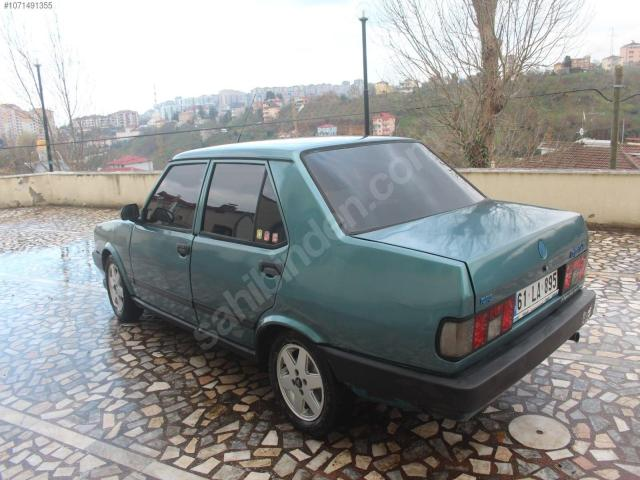plaka: (514, 271, 558, 322)
